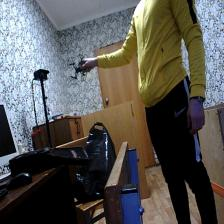drone: (65, 52, 91, 84)
